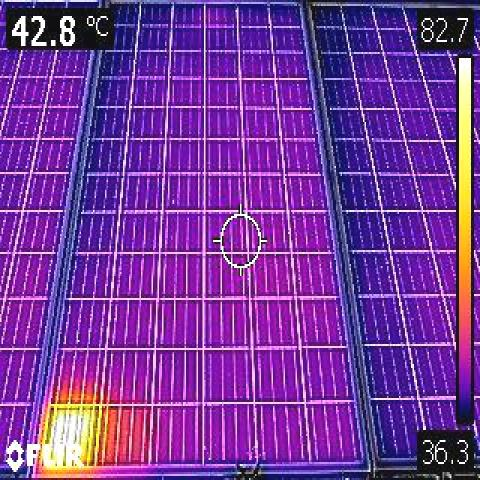fault: (50, 408, 98, 466)
